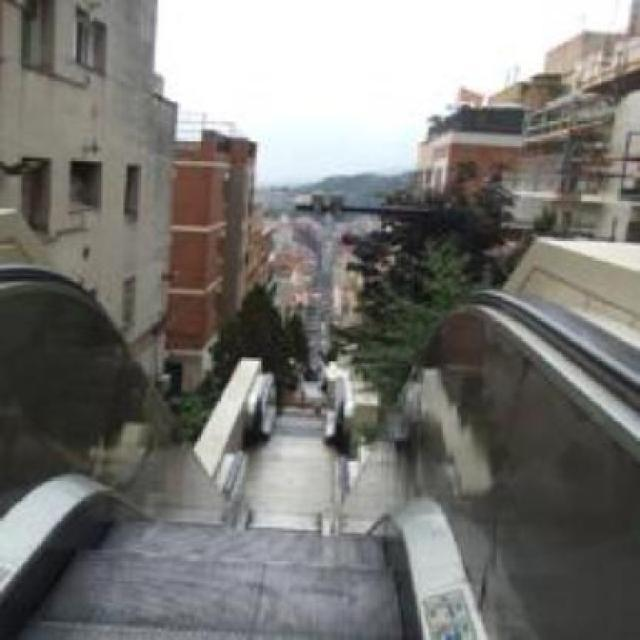stair: (96, 488, 398, 636)
